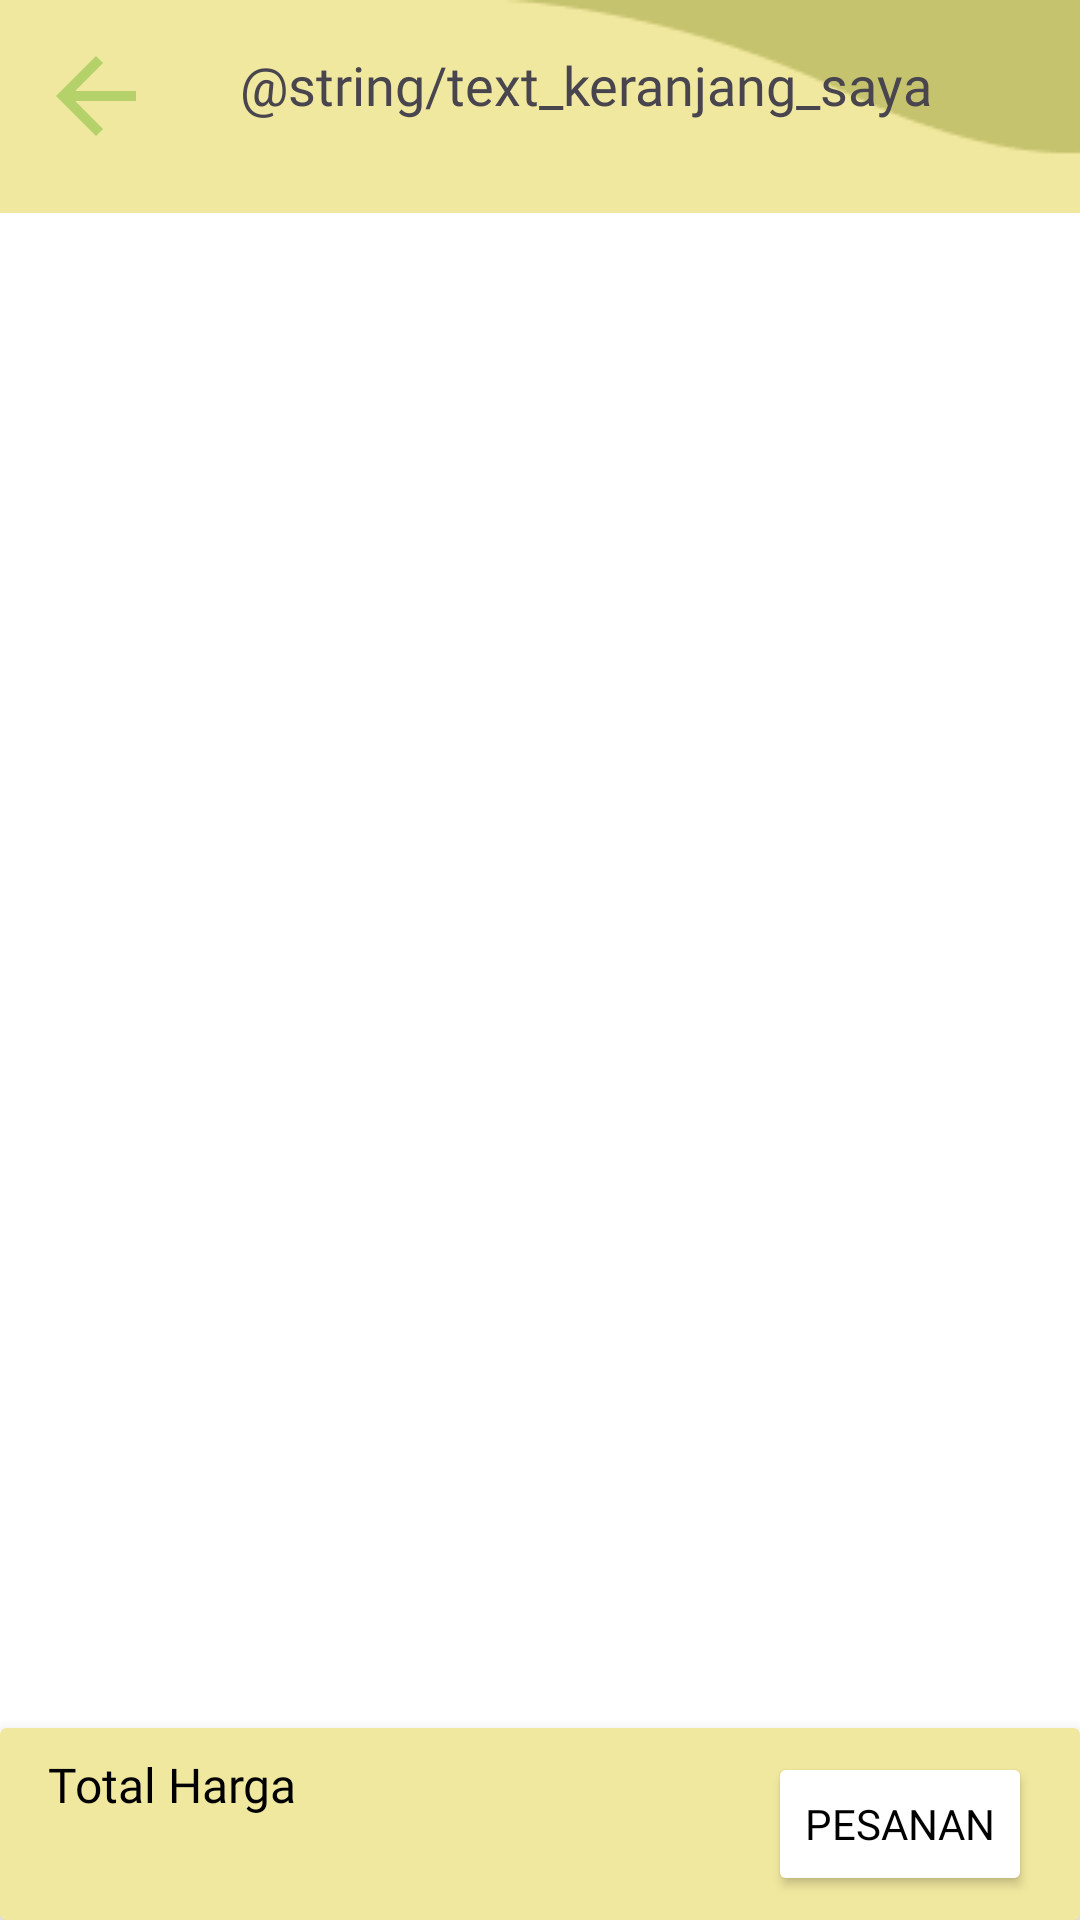

Where icons sit on this 1080x1920 app screen, as bbox(x1, y1, x2, y2):
back checkout: bbox(56, 56, 136, 136)
